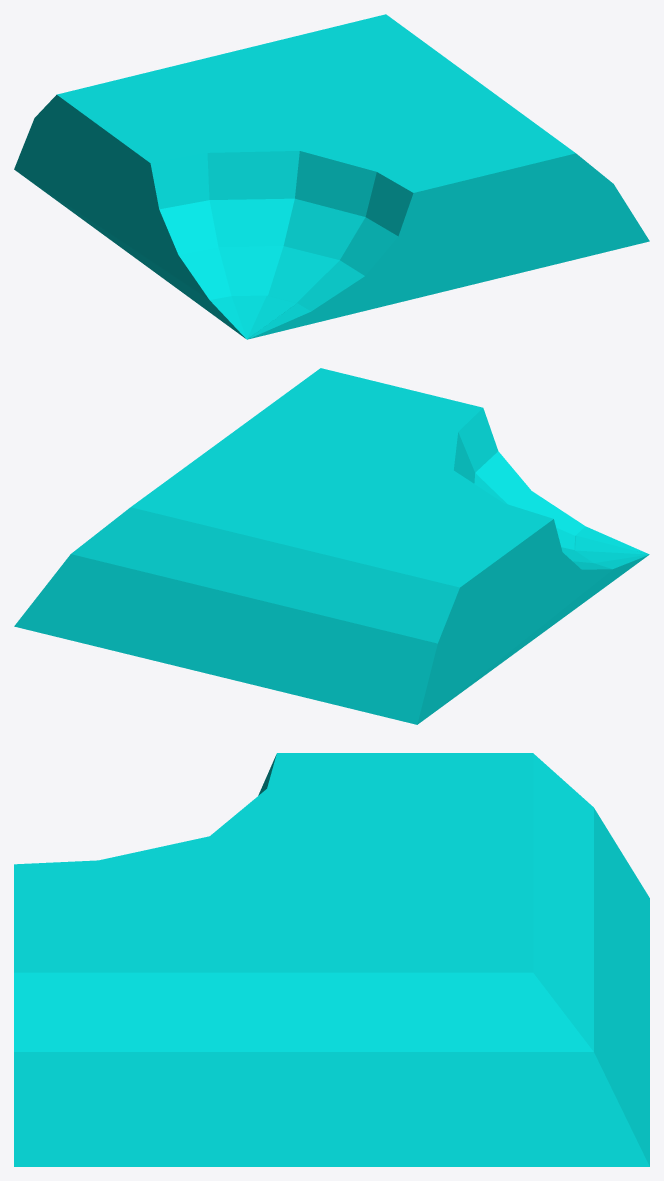
The model's file is SM_Env_Ramp_Curve_S_R_01_Collision.fbx.
The picture shows the model from 3 angles, top to bottom: view 1: azimuth 30°, elevation 25°; view 2: azimuth 150°, elevation 25°; view 3: azimuth 270°, elevation 25°; orthographic projection. The views are drawn at different scales.
Visible parts, largest first — view 1: SM_Env_Ramp_Curve_S_R_01_Collision; view 2: SM_Env_Ramp_Curve_S_R_01_Collision; view 3: SM_Env_Ramp_Curve_S_R_01_Collision.
Boxes of the visible parts, bbox=[...] form: SM_Env_Ramp_Curve_S_R_01_Collision: bbox=[14, 14, 649, 339]; SM_Env_Ramp_Curve_S_R_01_Collision: bbox=[14, 368, 649, 724]; SM_Env_Ramp_Curve_S_R_01_Collision: bbox=[14, 753, 649, 1166].
Bounding box in the file's own units: 298 × 75 × 298.
